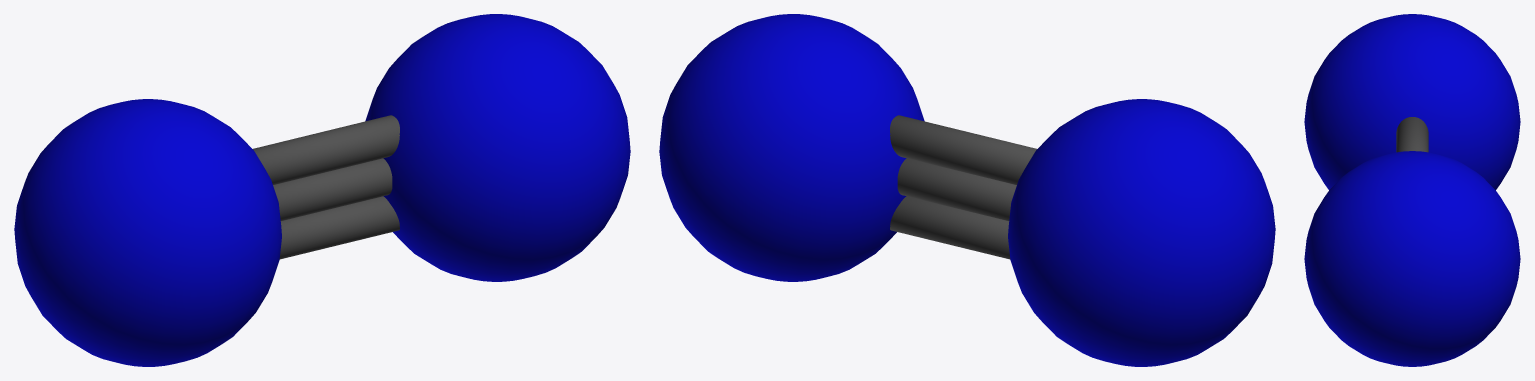
3 views of the same model, side by side, from view 1: azimuth 30°, elevation 25°; view 2: azimuth 150°, elevation 25°; view 3: azimuth 270°, elevation 25° (orthographic). The views are drawn at different scales.
Parts seen in each view (by area): view 1: Esfera.005, Esfera.006, Cilindro.005, Cilindro.006, Cilindro.004; view 2: Esfera.005, Esfera.006, Cilindro.005, Cilindro.006, Cilindro.004; view 3: Esfera.006, Esfera.005, Cilindro.005.
Boxes of the visible parts, bbox=[...] form: Esfera.005: bbox=[14, 99, 281, 366]; Esfera.006: bbox=[365, 14, 630, 281]; Cilindro.005: bbox=[253, 115, 399, 184]; Cilindro.006: bbox=[279, 196, 399, 259]; Cilindro.004: bbox=[273, 158, 392, 220]; Esfera.005: bbox=[1008, 99, 1275, 366]; Esfera.006: bbox=[659, 14, 924, 281]; Cilindro.005: bbox=[890, 115, 1036, 184]; Cilindro.006: bbox=[890, 196, 1010, 259]; Cilindro.004: bbox=[897, 158, 1016, 220]; Esfera.006: bbox=[1304, 151, 1520, 366]; Esfera.005: bbox=[1304, 14, 1520, 189]; Cilindro.005: bbox=[1396, 117, 1428, 152].
Size of the model in its own units: 4 by 1.6 by 1.6.
